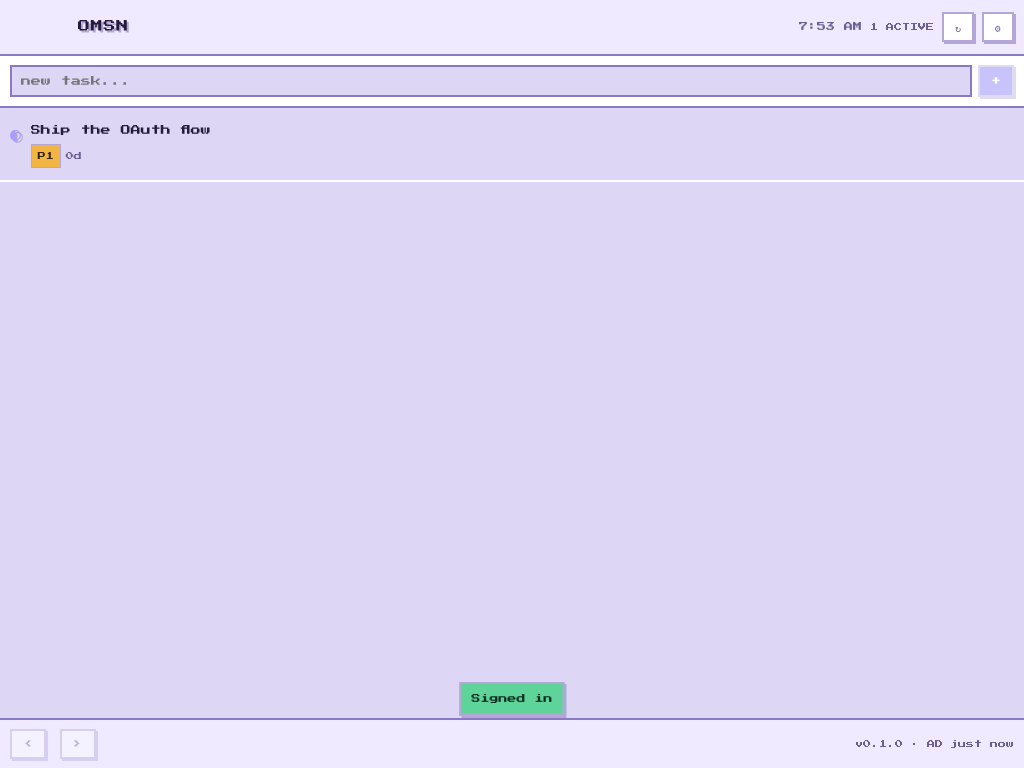
Test: deleting a task (R7) › cancels from the backdrop and from Escape
expect the text "Ship the OAuth flow" is shown: met, box top-left (31, 125), bottom-right (211, 135)
Click the button "Ship the OAuth flow P1 0d". click: (121, 130)
box: top-left (31, 125), bottom-right (211, 168)
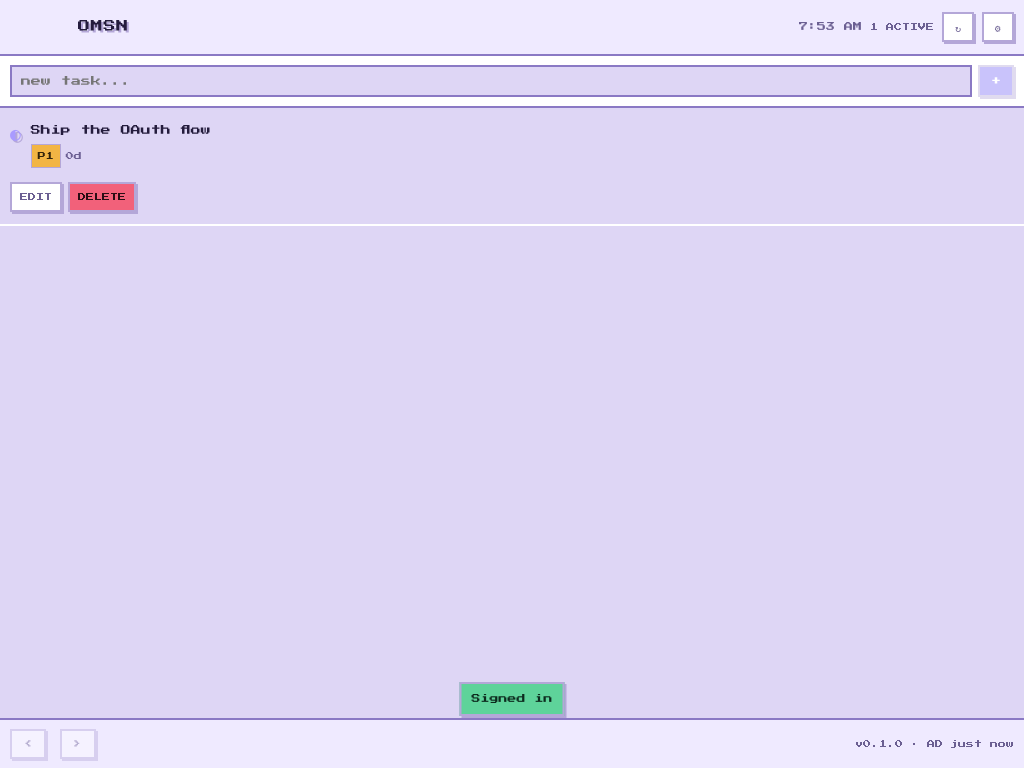
Click the button "DELETE". click: (102, 197)
box: top-left (68, 182), bottom-right (136, 212)
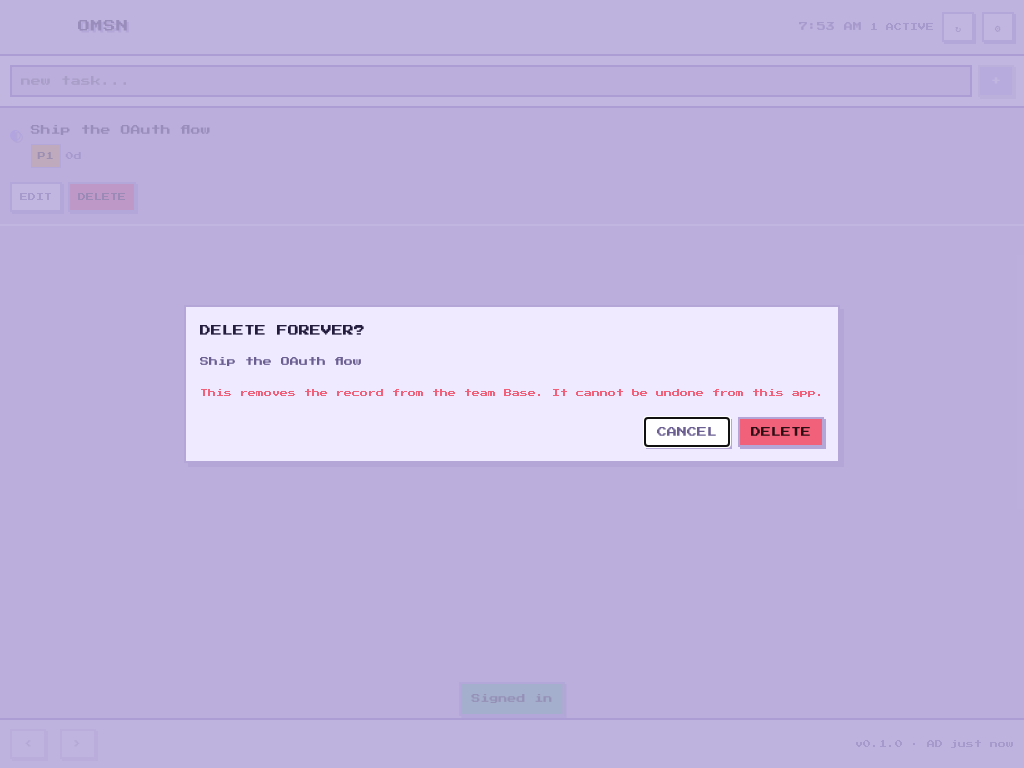
Click the element with class "confirm". click: (61, 384)
box: top-left (0, 0), bottom-right (1023, 767)
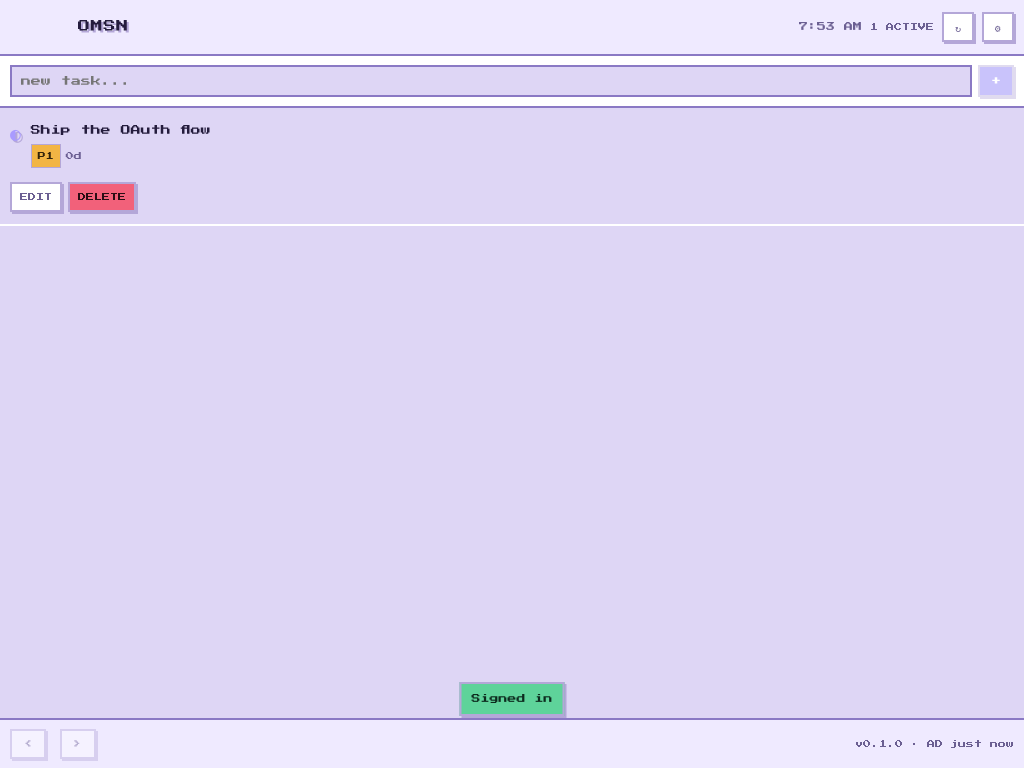
expect the element with class "confirm" is gone: met
Click the button "DELETE". click: (102, 197)
box: top-left (68, 182), bottom-right (136, 212)
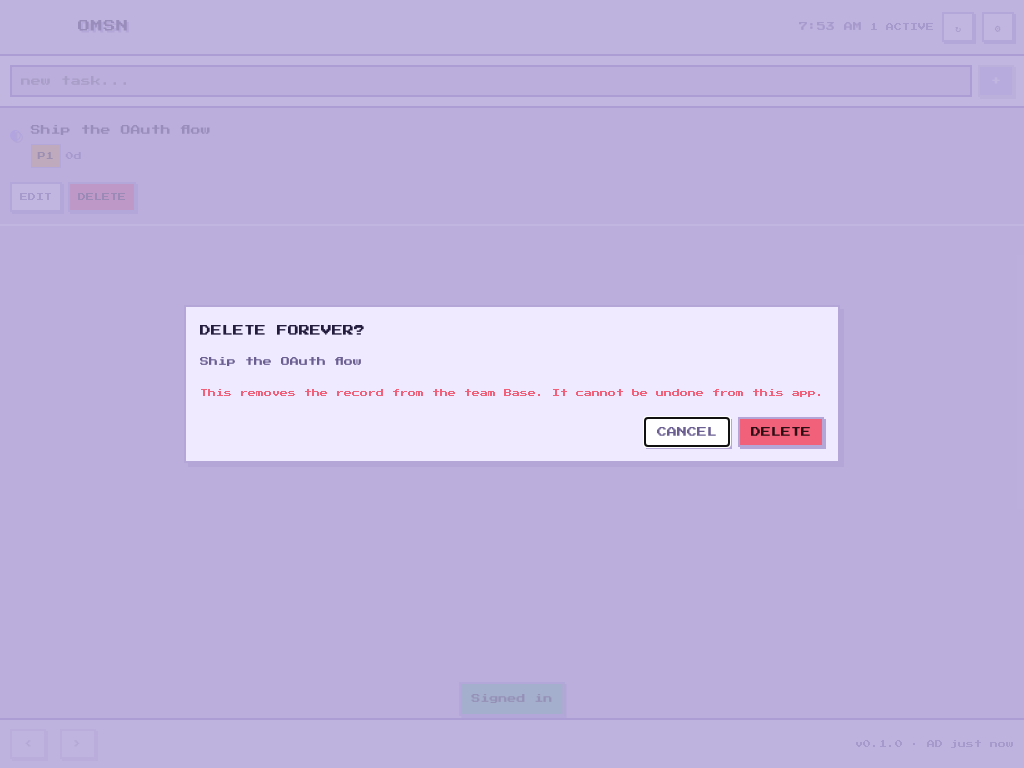
expect the element with class "confirm" is shown: met
Press Escape
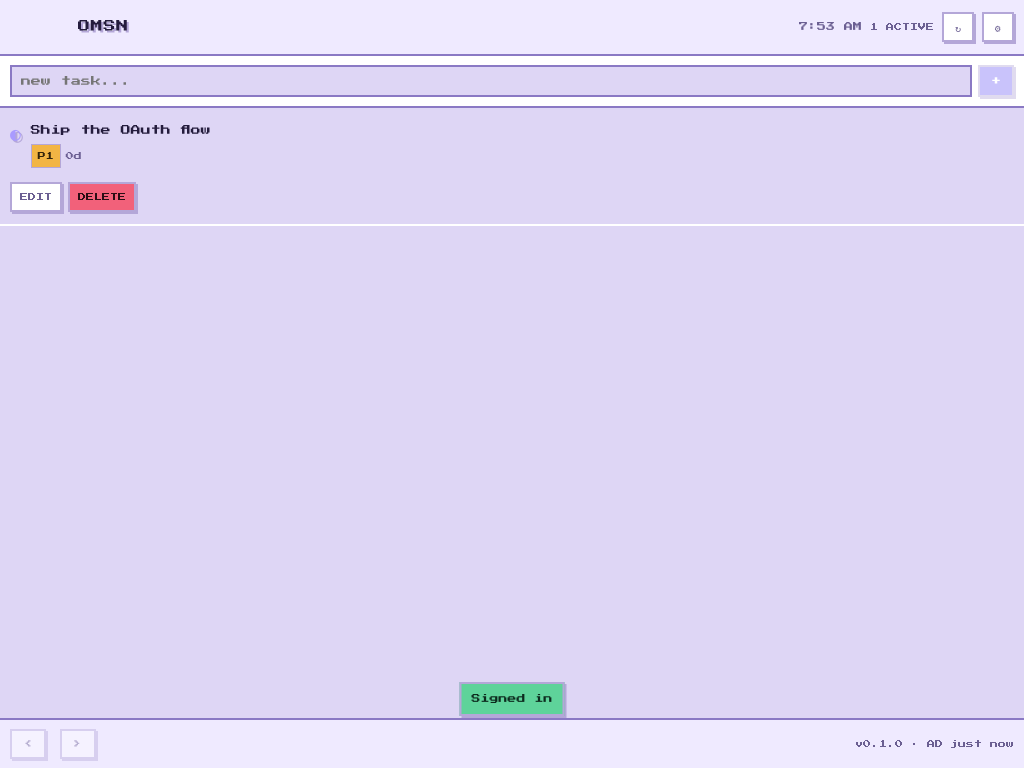
expect the text "Ship the OAuth flow" is shown: met, box top-left (31, 125), bottom-right (211, 135)
expect the element with class "confirm" is gone: met
